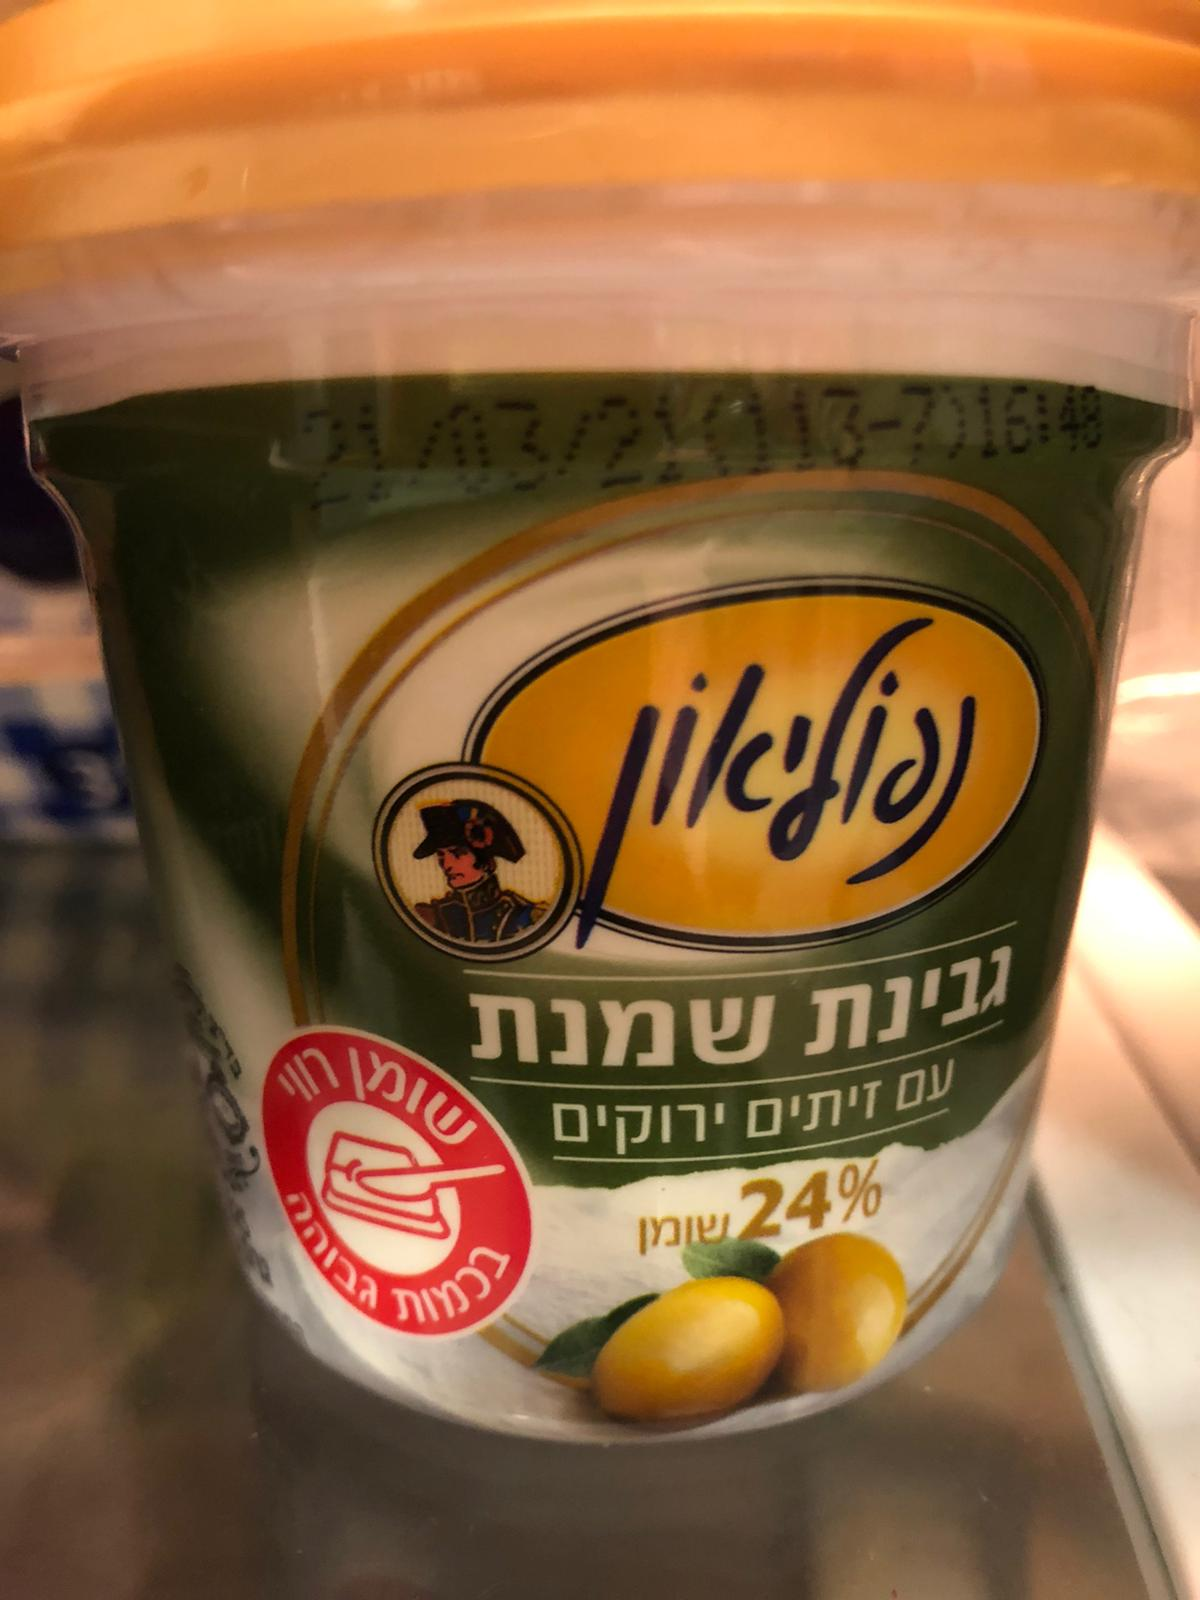fat: (256, 1026, 541, 1346)
